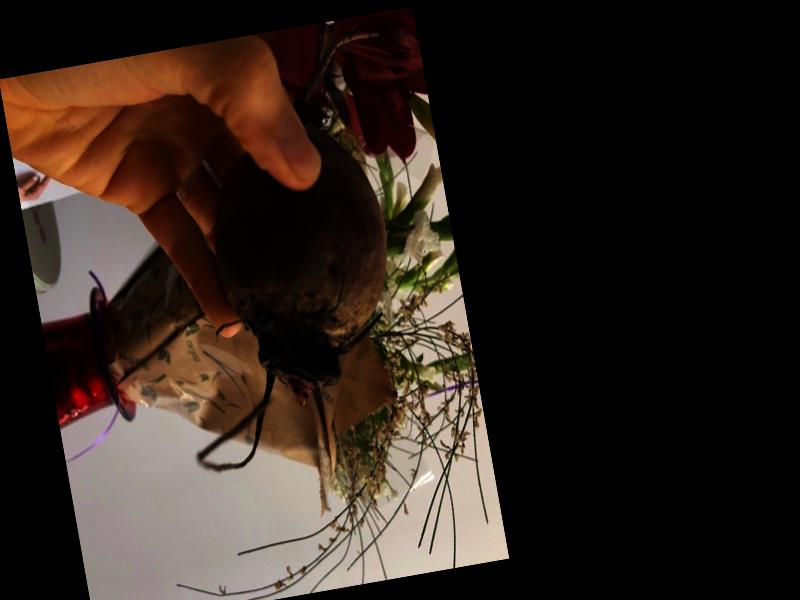Beet: (130, 30, 448, 476)
